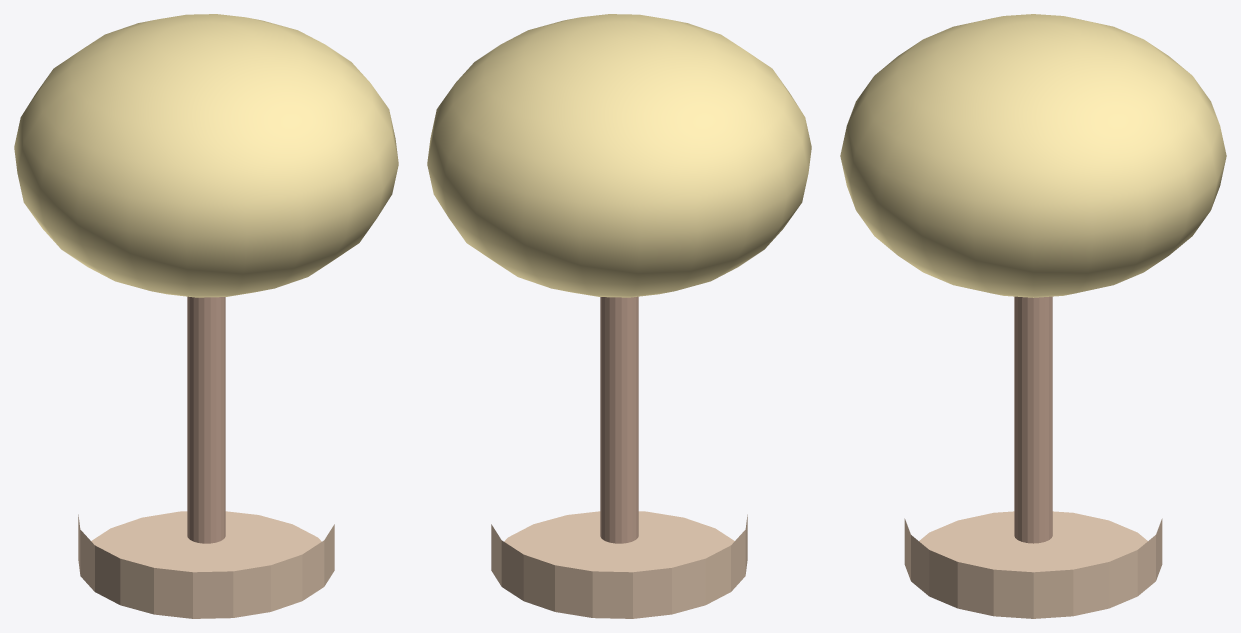
The model's file is lamp.glb.
3 renders of one model, left to right at view 1: azimuth 30°, elevation 25°; view 2: azimuth 150°, elevation 25°; view 3: azimuth 270°, elevation 25°, orthographic.
Parts seen in each view (by area): view 1: shade, base, stem; view 2: shade, base, stem; view 3: shade, base, stem.
Part boxes in pixels (box(x1,y1,x2,y2)): shade: box(14, 14, 398, 297); base: box(78, 511, 334, 618); stem: box(187, 296, 225, 543); shade: box(427, 14, 811, 297); base: box(491, 511, 747, 618); stem: box(600, 296, 638, 543); shade: box(840, 14, 1226, 297); base: box(904, 511, 1162, 618); stem: box(1014, 296, 1052, 543).
Size of the model in its own units: 0.6 by 0.9 by 0.6.
